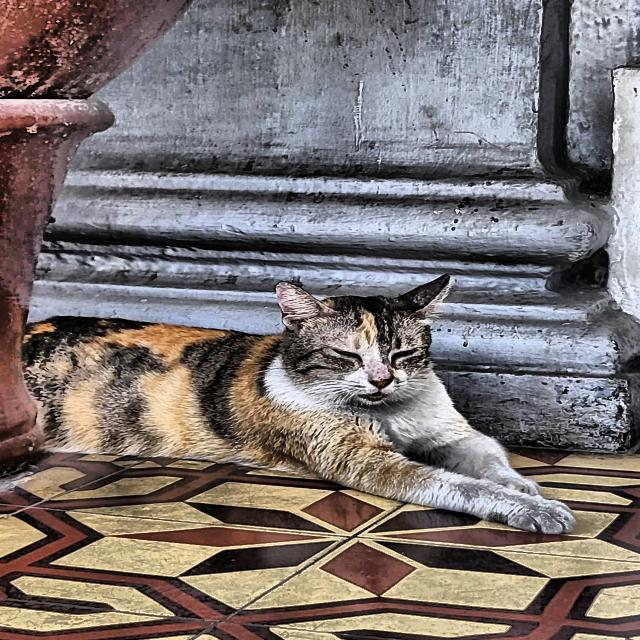Healthy skin: (116, 338, 284, 445)
